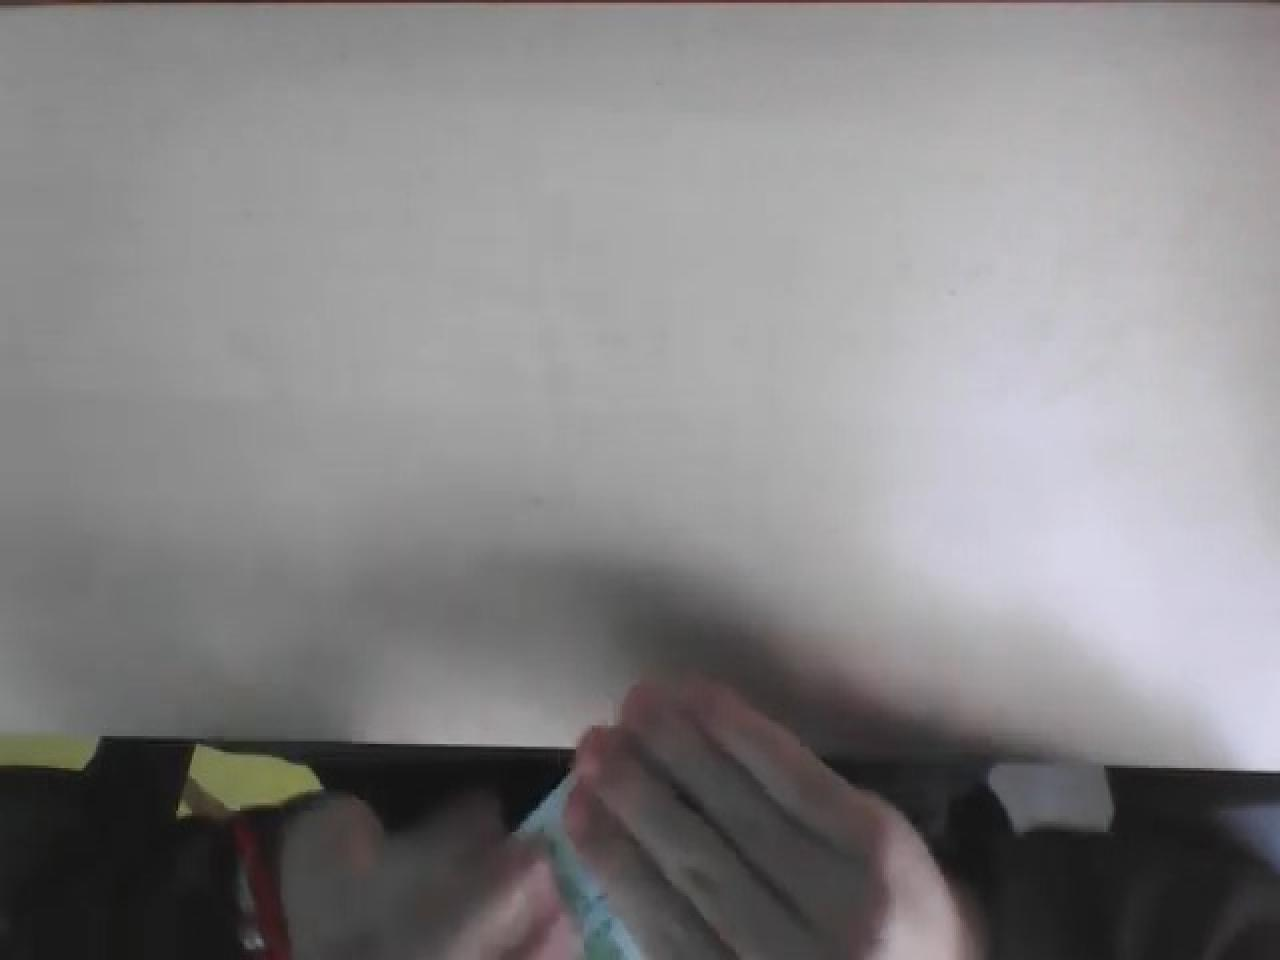100leva: (510, 763, 648, 960)
